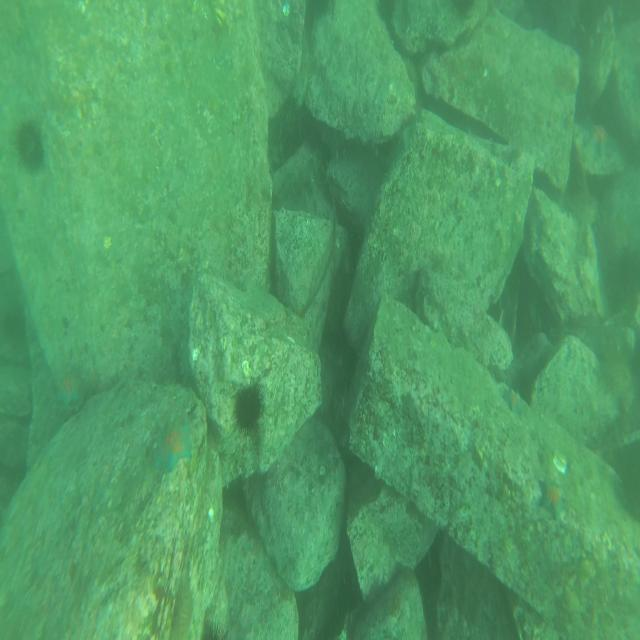echinus: (15, 122, 45, 174), (234, 383, 264, 433)
starfish: (156, 417, 193, 473), (584, 119, 617, 165), (540, 474, 567, 522)
